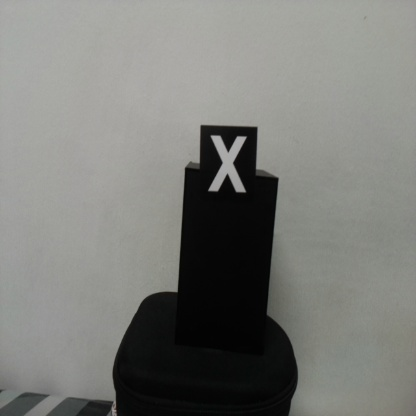id_13: (200, 126, 257, 206)
